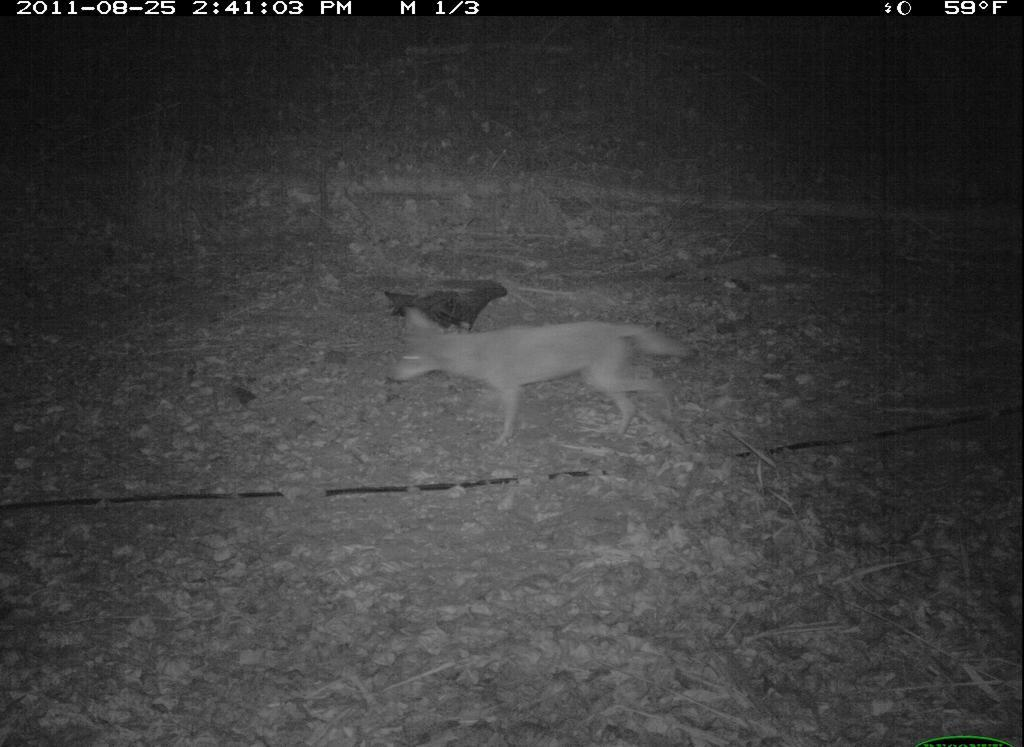coyote: (382, 294, 698, 457)
